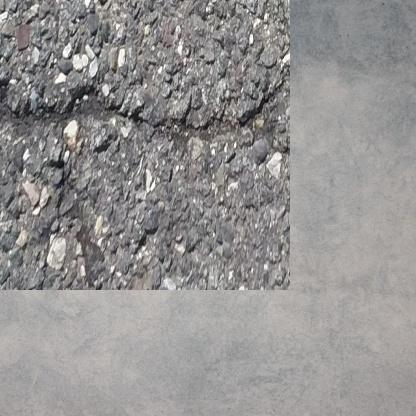Cracks: (0, 55, 268, 145)
